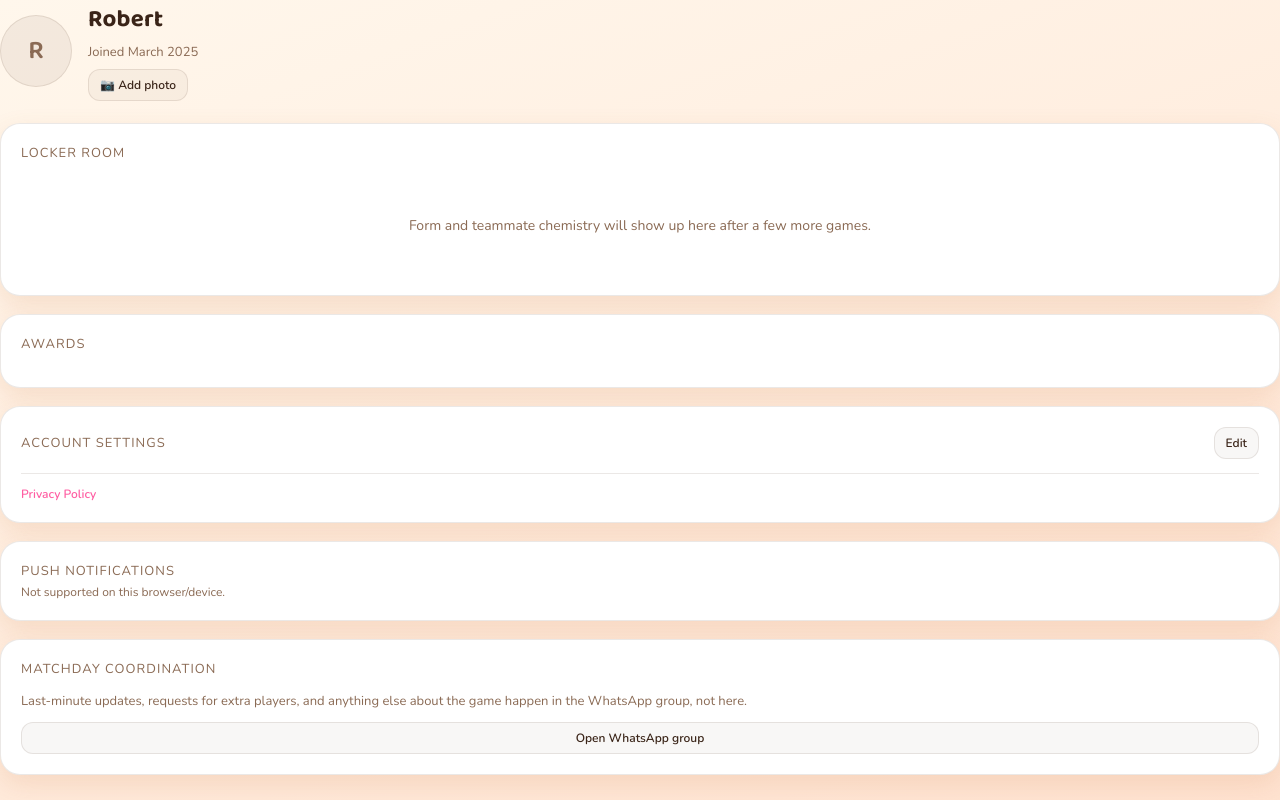
Test: PlayerProfile - account settings › shows the server's error, e.g. a wrong current password
What coordinates should you click on to do the following:
click the button "Edit"
I would click on:
 (1236, 443)
Its box is x1=1214 y1=427 x2=1259 y2=459.
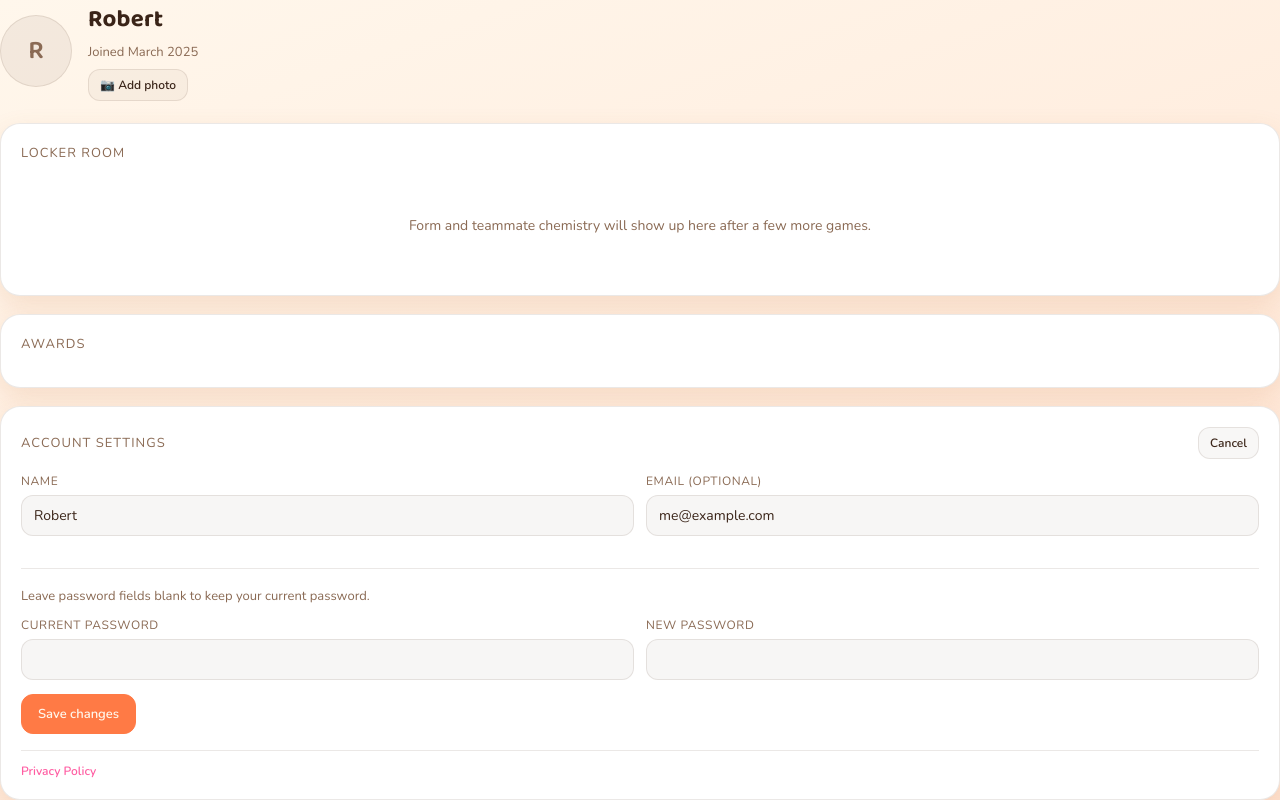
What coordinates should you click on to do the following:
click the button "Save changes"
I would click on:
 (79, 714)
Its box is x1=21 y1=694 x2=136 y2=734.
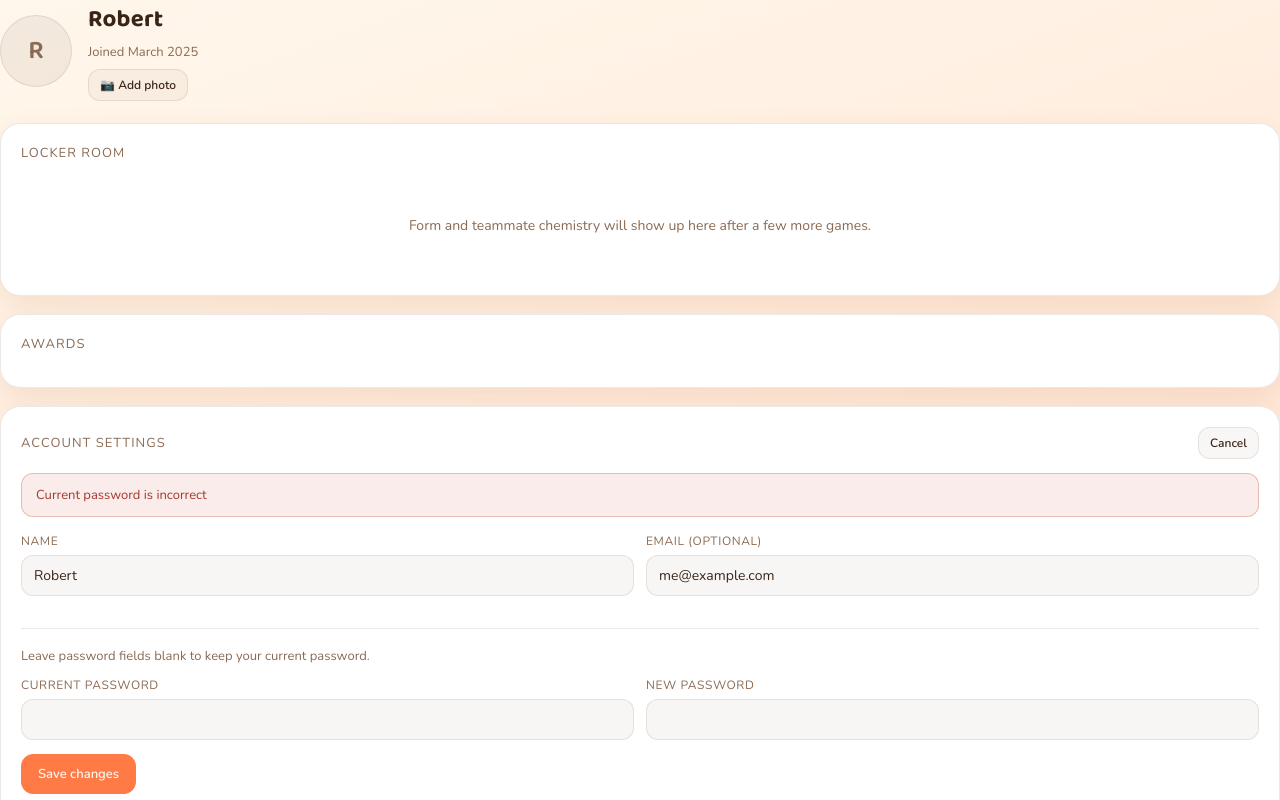
Check: the text "Current password is incorrect" is shown, box x1=21 y1=473 x2=1259 y2=517
